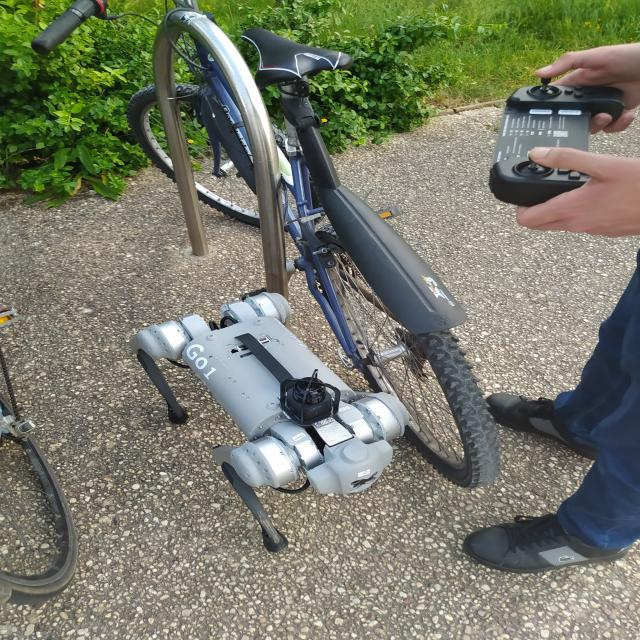unitree-go1-robot: (123, 272, 424, 560)
